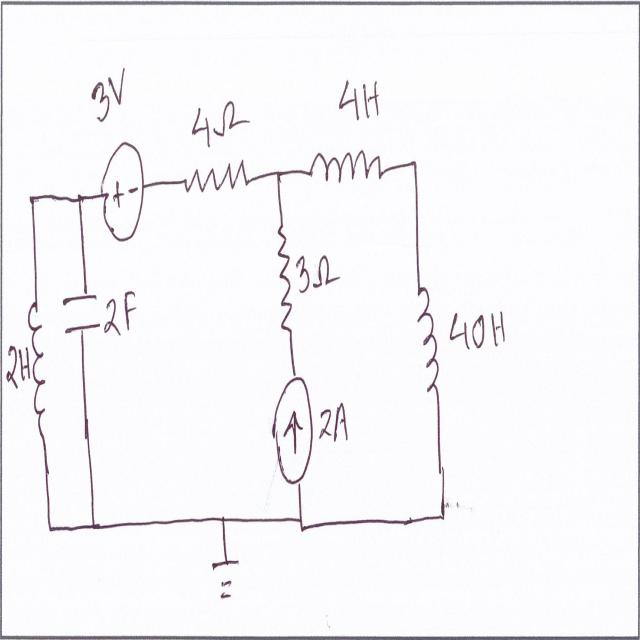capacitor: (55, 287, 105, 343)
current_source: (270, 371, 319, 497)
ground: (211, 550, 244, 616)
inductor: (306, 147, 387, 191), (414, 276, 441, 399), (27, 282, 49, 429)
resistor: (272, 217, 296, 340), (185, 158, 250, 198)
voltage_source: (96, 135, 150, 254)
